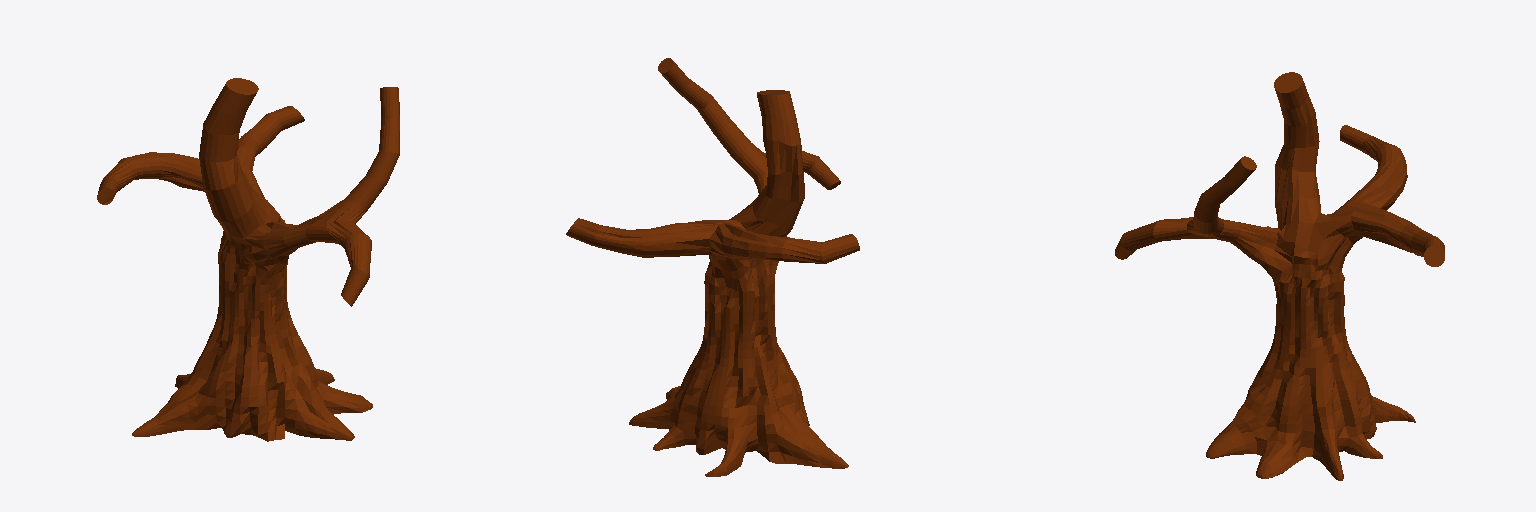
File: TreeTrunk.obj
3 renders of one model, left to right at view 1: azimuth 30°, elevation 25°; view 2: azimuth 150°, elevation 25°; view 3: azimuth 270°, elevation 25°, orthographic.
Parts seen in each view (by area): view 1: Trunk1; view 2: Trunk1; view 3: Trunk1.
Part boxes in pixels (x1,y1,x2,y2): Trunk1: (97,78,399,441); Trunk1: (566,58,859,476); Trunk1: (1115,72,1444,480).
Bounding box in the file's own units: 72.92 × 96.03 × 83.28.